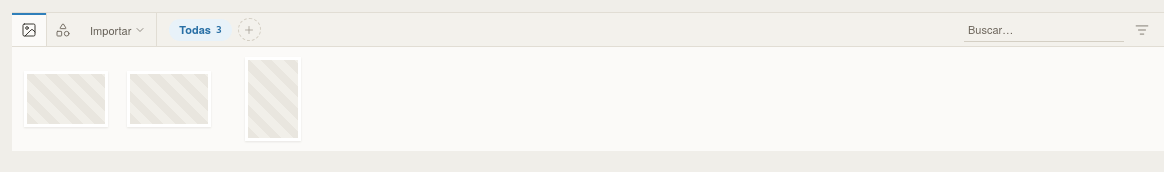
it: matches the reference toolbar and disables folders when no mutation port is provided
Check: the search field named "Buscar fotos" is shown, box left=968, top=21, right=1120, bottom=37
Check: the button named "Nova coleção" is disabled, box left=238, top=18, right=261, bottom=41
Click the button "Importar" at (118,30), box left=80, top=13, right=156, bottom=46
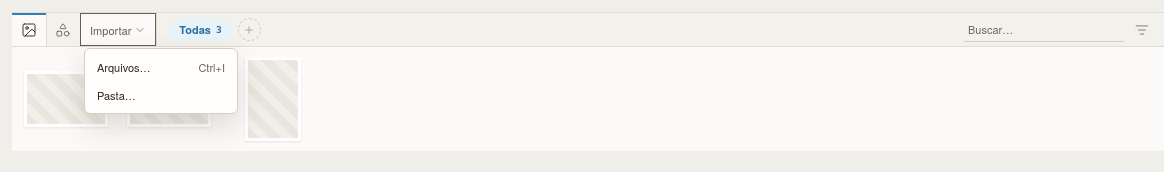
Check: the menu item "Arquivos… Ctrl+I" is enabled, box left=89, top=53, right=233, bottom=81
Check: the menu item "Pasta…" is enabled, box left=89, top=81, right=233, bottom=109
